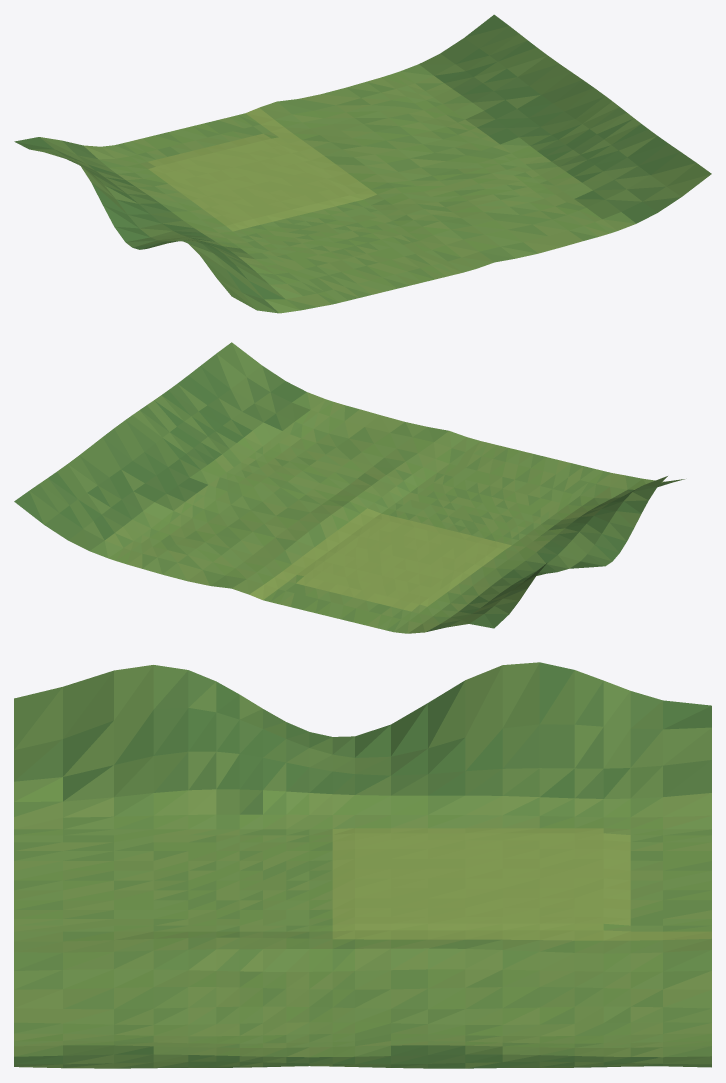
Rendered from valley-grass.glb.
The picture shows the model from 3 angles, top to bottom: view 1: azimuth 30°, elevation 25°; view 2: azimuth 150°, elevation 25°; view 3: azimuth 270°, elevation 25°; orthographic projection. The views are drawn at different scales.
Visible parts, largest first — view 1: valley-grass-col; view 2: valley-grass-col; view 3: valley-grass-col.
Part boxes in pixels (x1=…): valley-grass-col: x1=14, y1=14, x2=711, y2=313; valley-grass-col: x1=14, y1=342, x2=684, y2=633; valley-grass-col: x1=14, y1=662, x2=711, y2=1068.
Bounding box in the file's own units: 382 × 41.96 × 300.
Materials: 1 (1 with a texture image).
